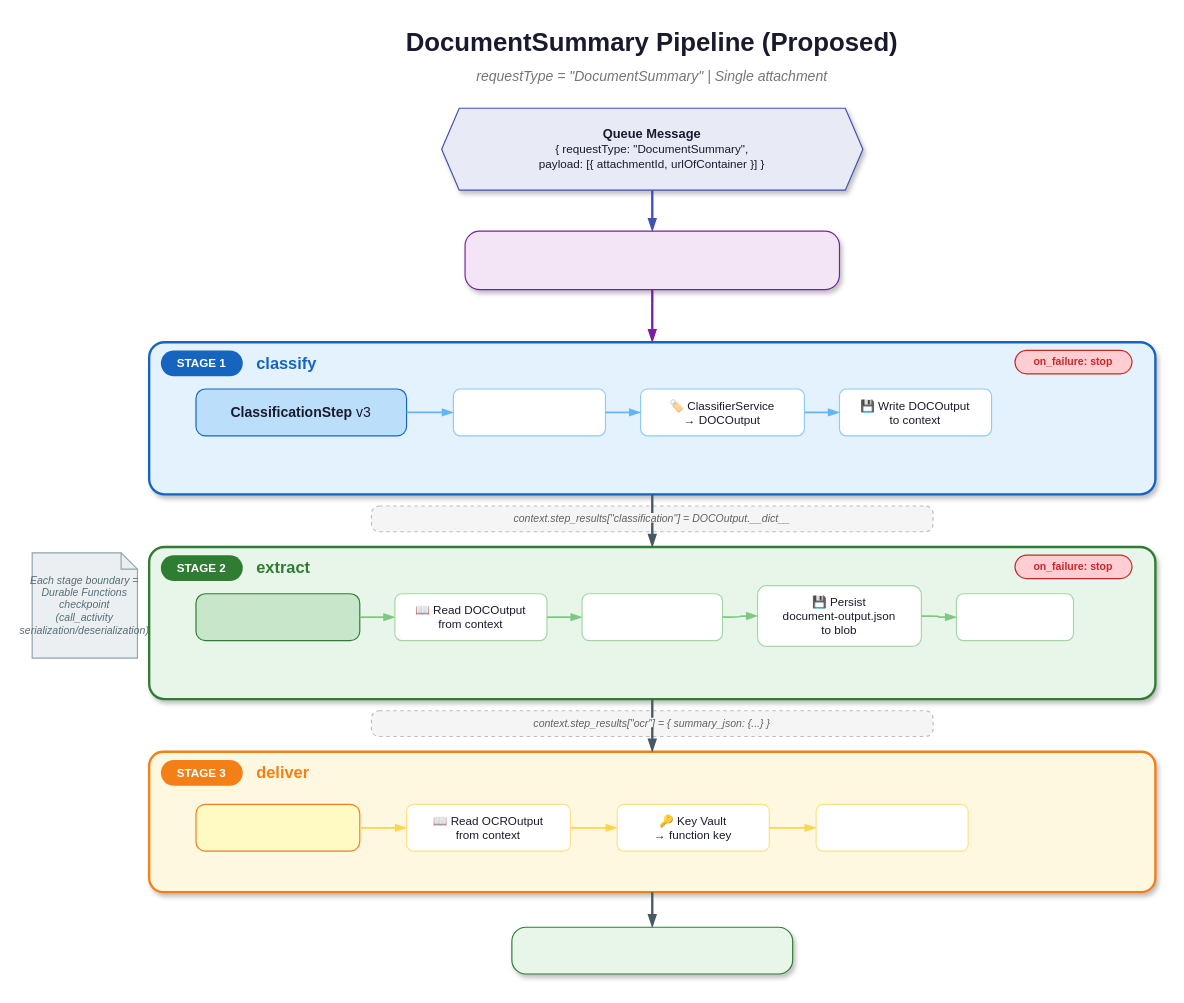
Some shapes in this 1184 by 1003 pixel diagram are drawn without their labels. Here are the shapes that lost their labels. From the top down, the centre of each, then its label:
[652,261]: pipeline_orchestrator PIPELINE_MAP → document_summary.yaml
[528,412]: 📦 Copy blob → src-raw-doc
[277,617]: OcrStep v2
[651,617]: 🔀 Route to OCR / OCRAuto
[1014,617]: → OCROutput
[277,827]: SendStep v1
[891,827]: 📤 POST to front-end API
[653,951]: ✅ Return PipelineContext
